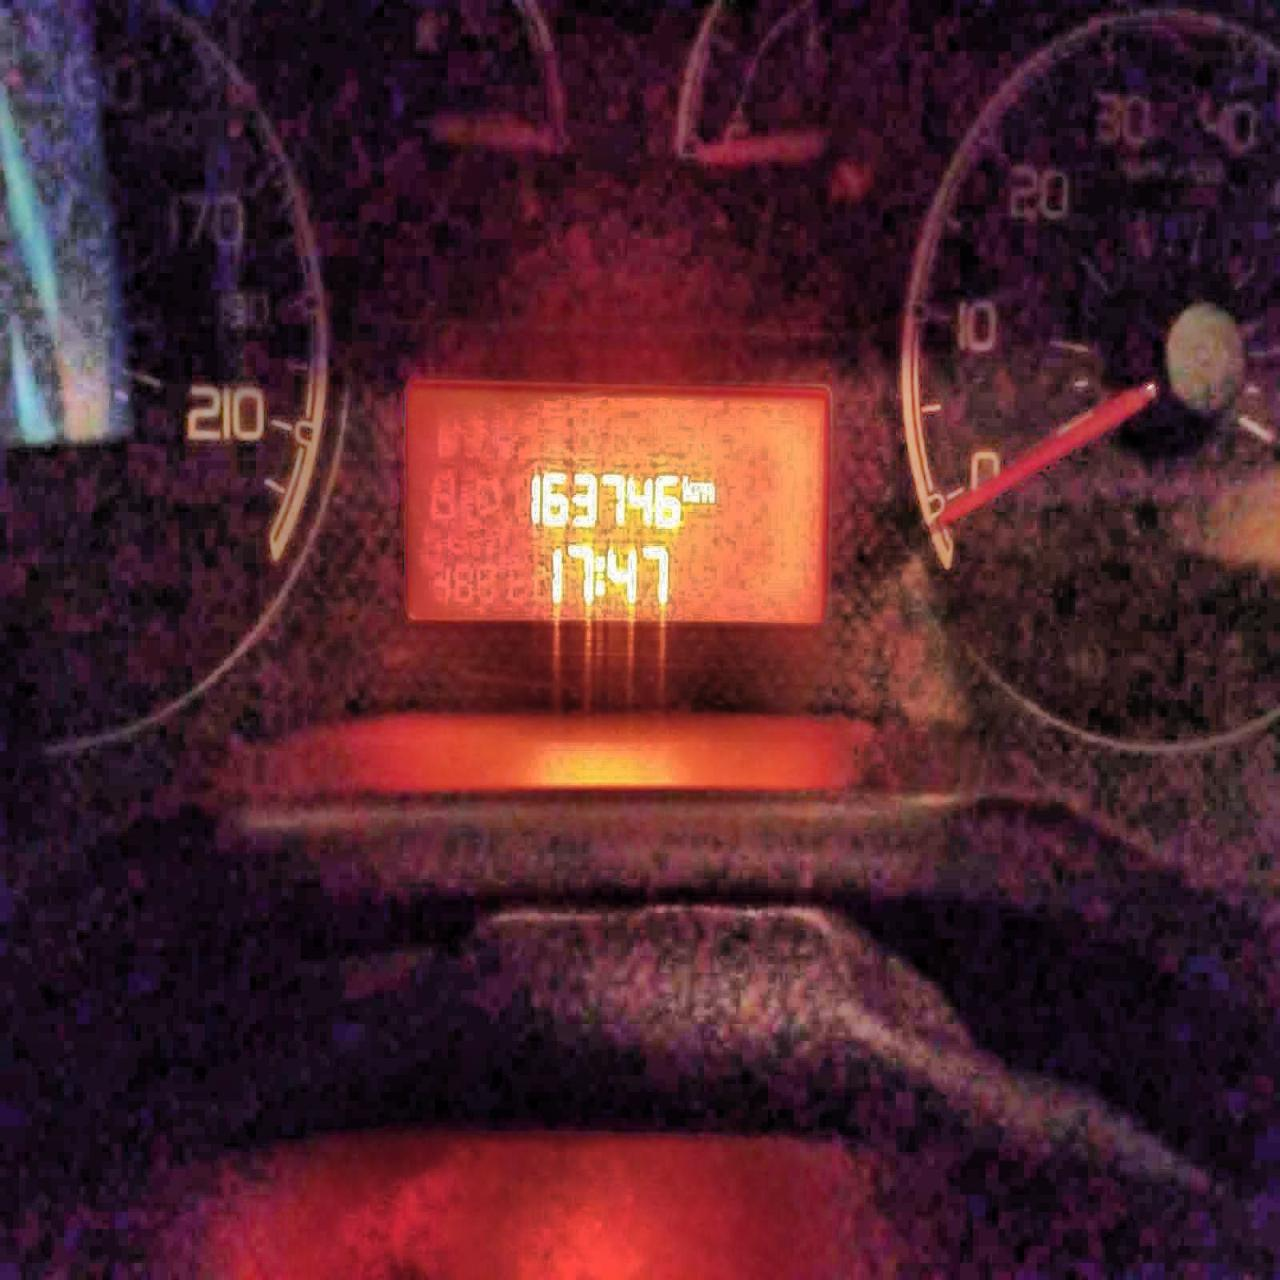1: (529, 470, 543, 526), (550, 542, 561, 600)
3: (572, 474, 594, 530)
4: (605, 544, 639, 607), (627, 475, 652, 529)
6: (543, 472, 568, 526), (654, 477, 681, 527)
7: (561, 540, 594, 607), (598, 469, 628, 540), (640, 543, 672, 606)
X: (694, 477, 715, 506), (595, 551, 606, 601), (680, 476, 693, 506)
odometer: (392, 373, 836, 638)
